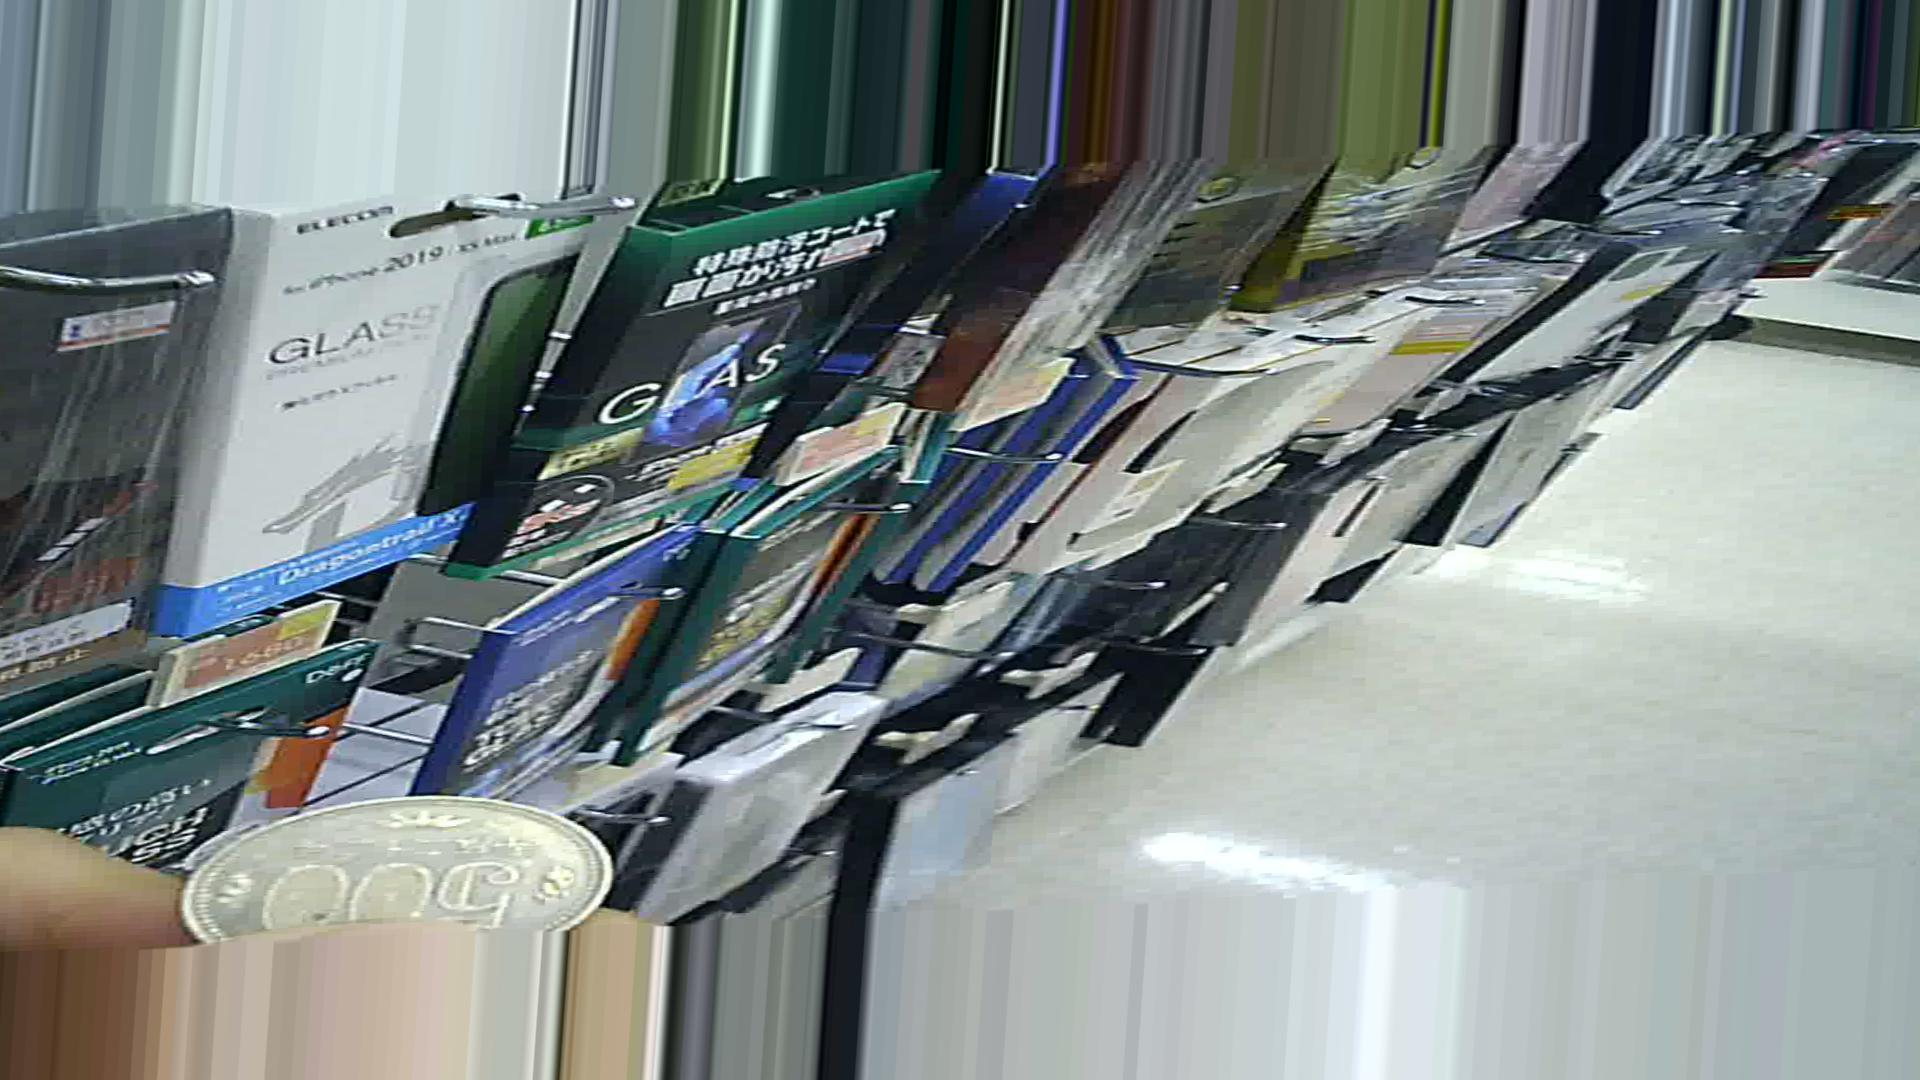500 Yen: (161, 796, 642, 963)
